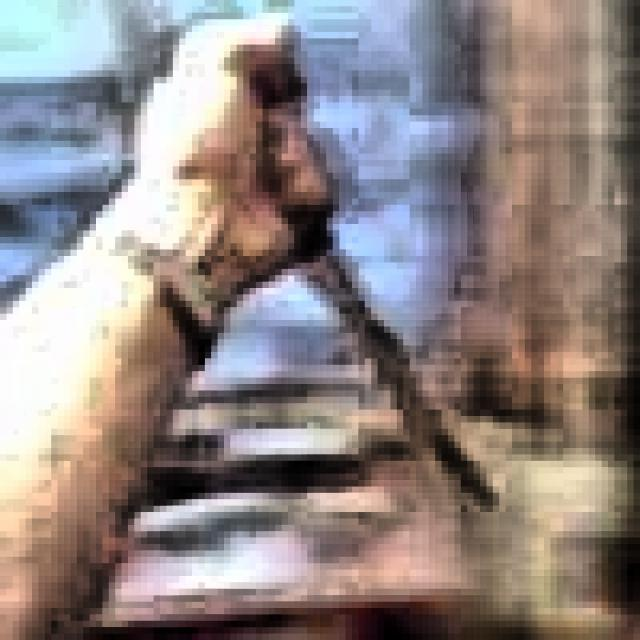knife: (297, 219, 499, 512)
